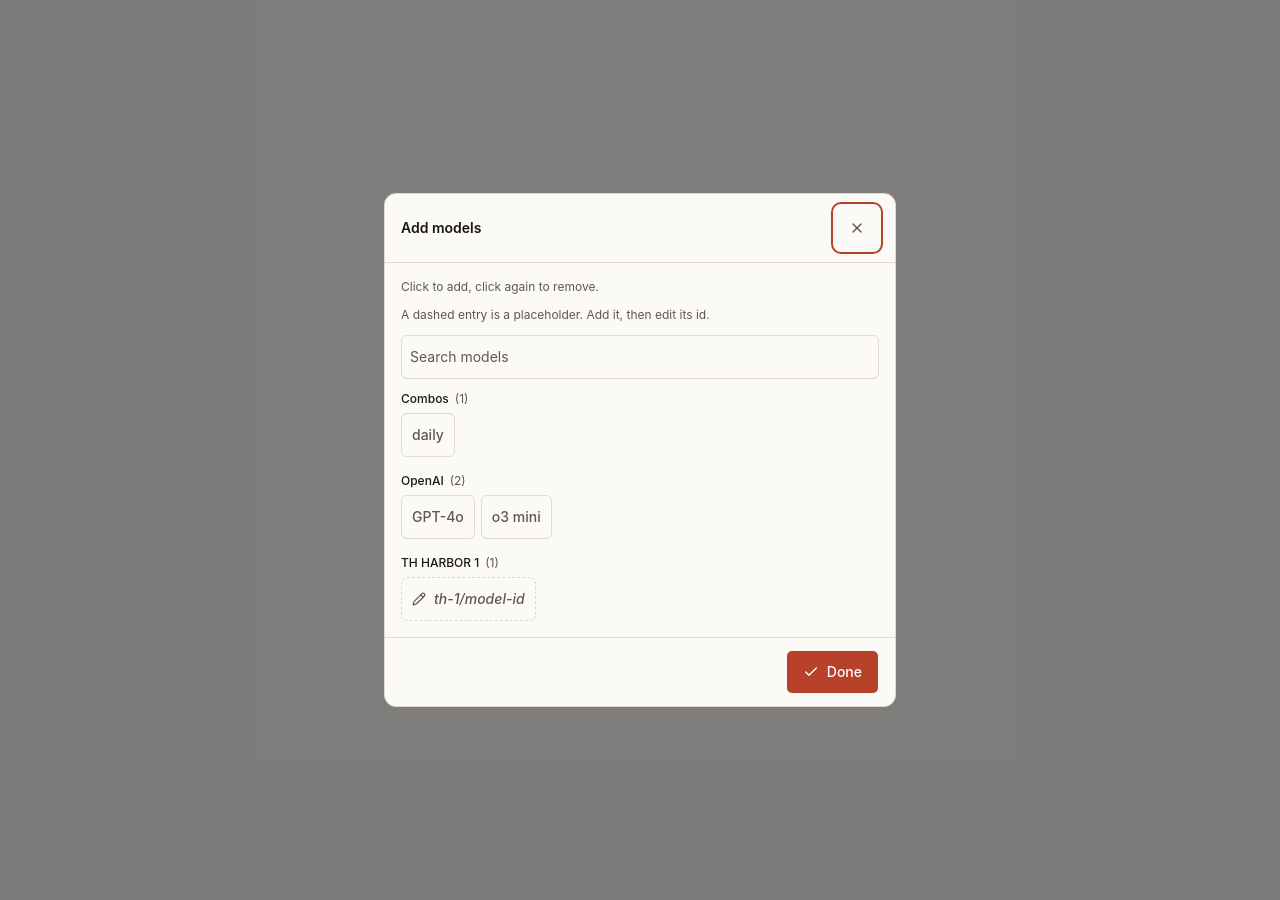
Test case: ModelPickerDialog › filters by the search box and says when nothing matches
In the search field with placeholder "Search models": (640, 357) [401,335,879,379], type "o3"
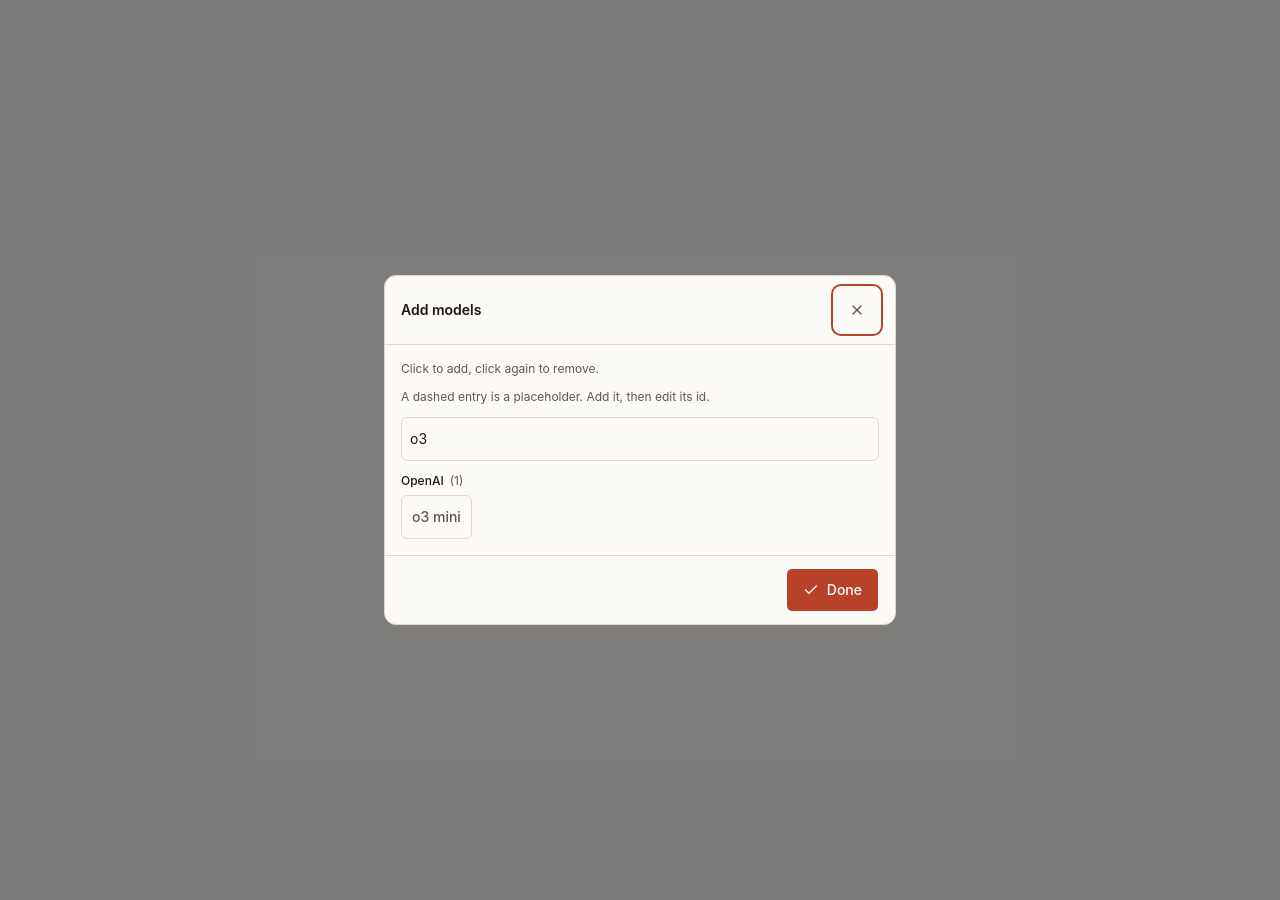
Expected: the button "o3 mini" is shown, [401,495,472,539]
Result: the button "GPT-4o" is gone
Replace the text in the search field with placeholder "Search models" with "nothing-like-this": (640, 439) [401,417,879,461]
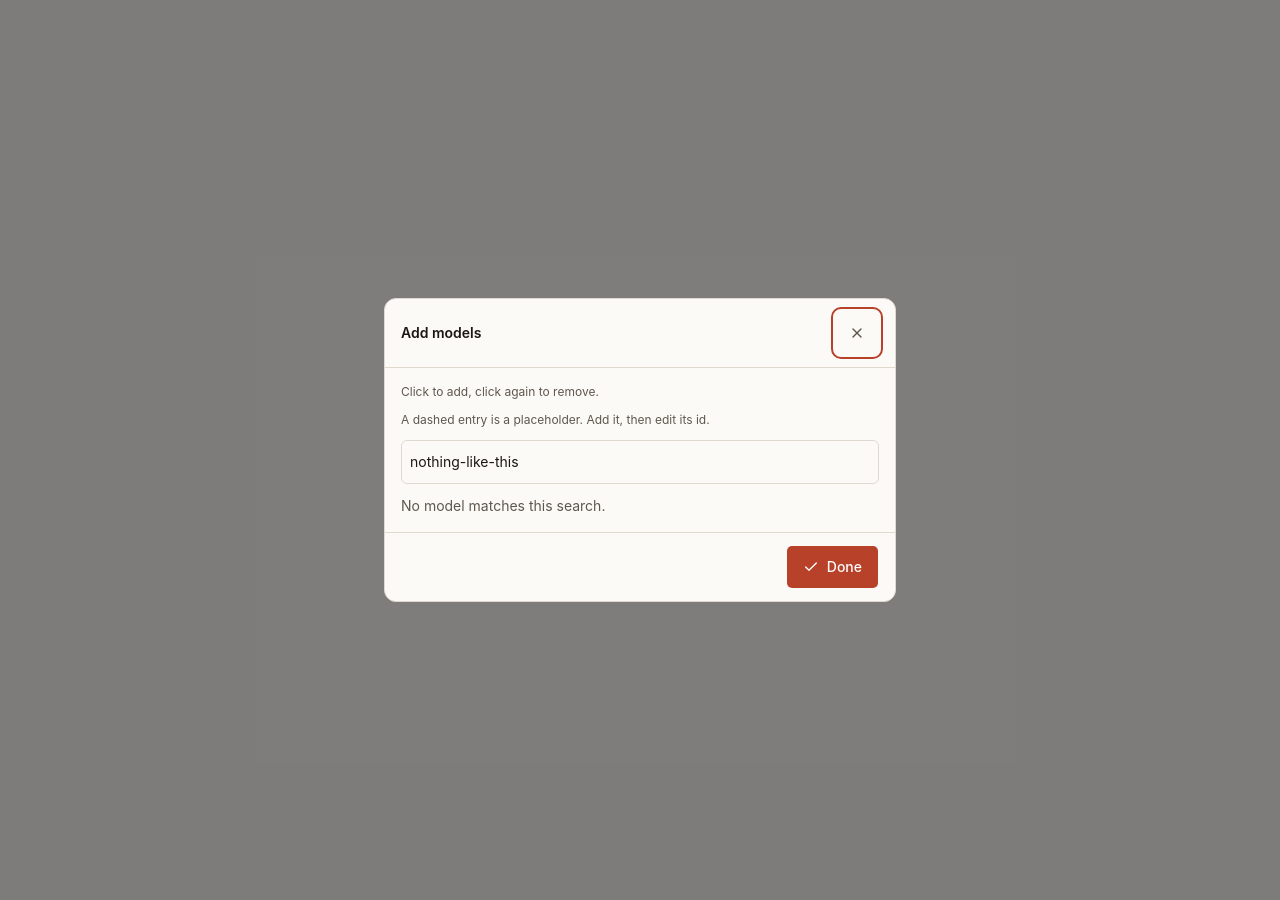
Result: the text "No model matches this search." is shown at [401,497,605,514]
